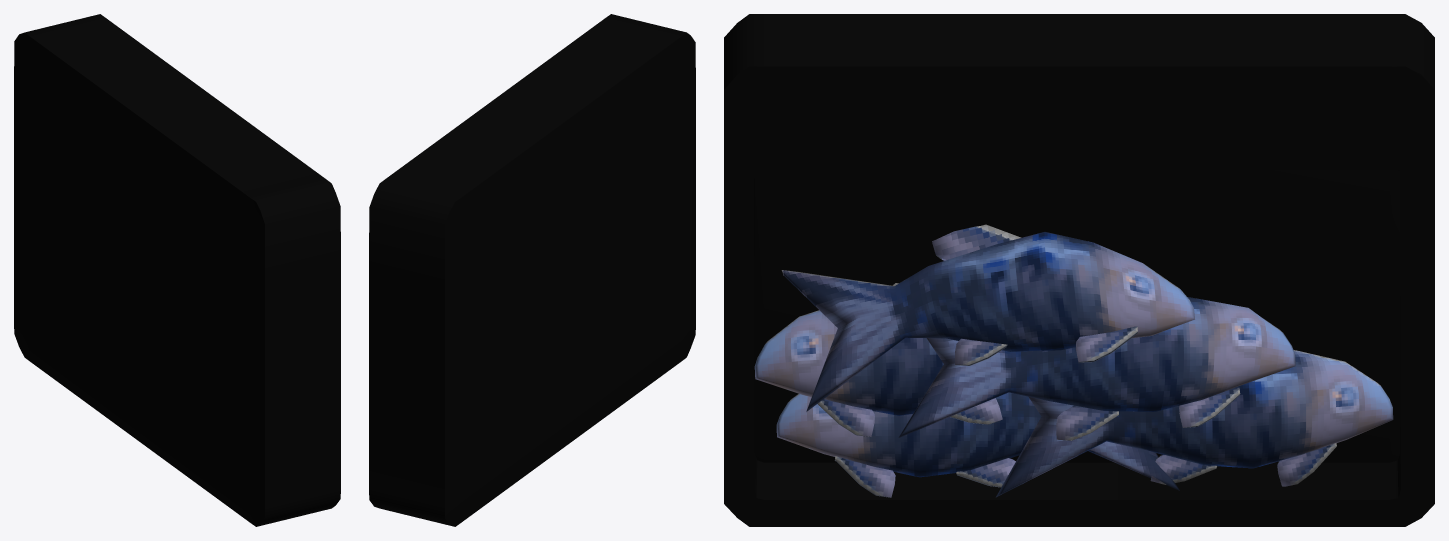
Rendered from fishpoup.fbx.
The picture shows the model from 3 angles, left to right: view 1: azimuth 30°, elevation 25°; view 2: azimuth 150°, elevation 25°; view 3: azimuth 270°, elevation 25°; orthographic projection. The views are drawn at different scales.
Visible parts, largest first — view 1: pop-up_bpdy; view 2: pop-up_bpdy; view 3: pop-up_bpdy, fishes.
Boxes of the visible parts, x1,y1,x2,y2 form: pop-up_bpdy: (14,14,340,526); pop-up_bpdy: (369,14,695,526); pop-up_bpdy: (724,14,1434,526); fishes: (754,224,1393,497).
Bounding box in the file's own units: 71.87 × 203 × 284.
